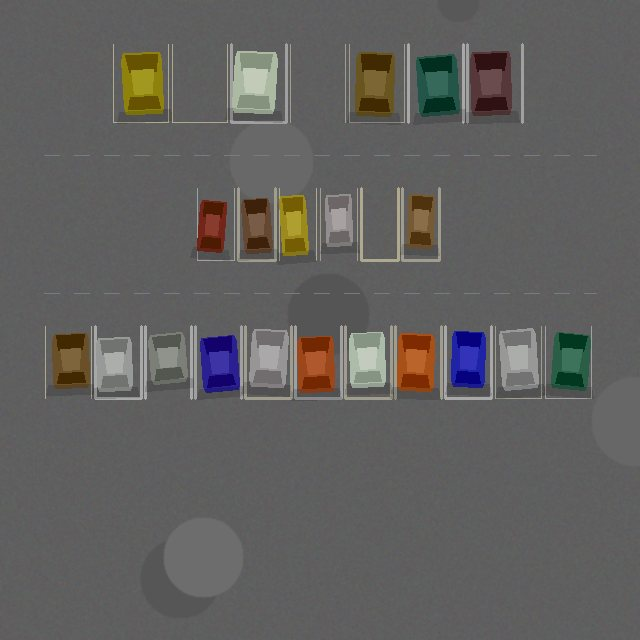space-empty: (172, 44, 227, 122), (290, 44, 345, 122), (361, 188, 398, 260)
space-occupied: (113, 44, 168, 122), (231, 44, 286, 122), (349, 44, 404, 122), (408, 44, 463, 122), (467, 44, 522, 122), (45, 326, 91, 398), (95, 326, 141, 398), (145, 326, 191, 398), (195, 326, 241, 398), (245, 326, 291, 398), (295, 326, 341, 398), (345, 326, 391, 398), (395, 326, 441, 398), (445, 326, 491, 398), (495, 326, 541, 398), (545, 326, 591, 398), (197, 188, 234, 260), (238, 188, 275, 260), (279, 188, 316, 260), (320, 188, 357, 260), (402, 188, 439, 260)
